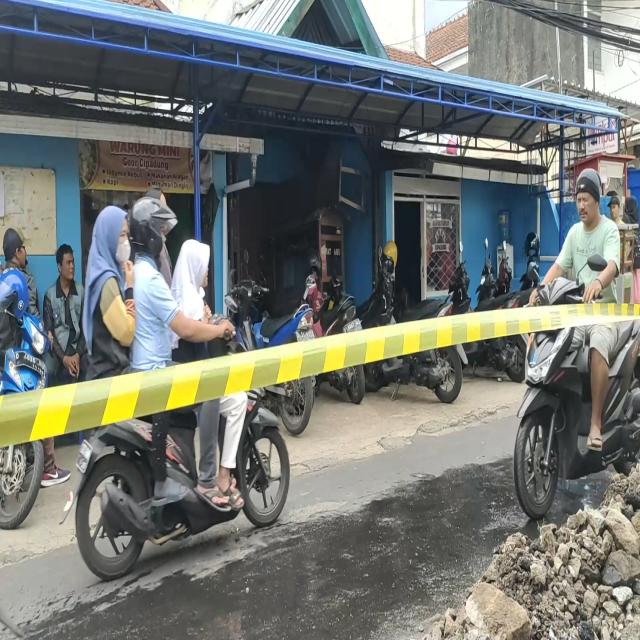helmet: (134, 197, 168, 258)
no-helmet: (94, 215, 127, 266), (180, 242, 210, 287), (575, 171, 602, 218)
